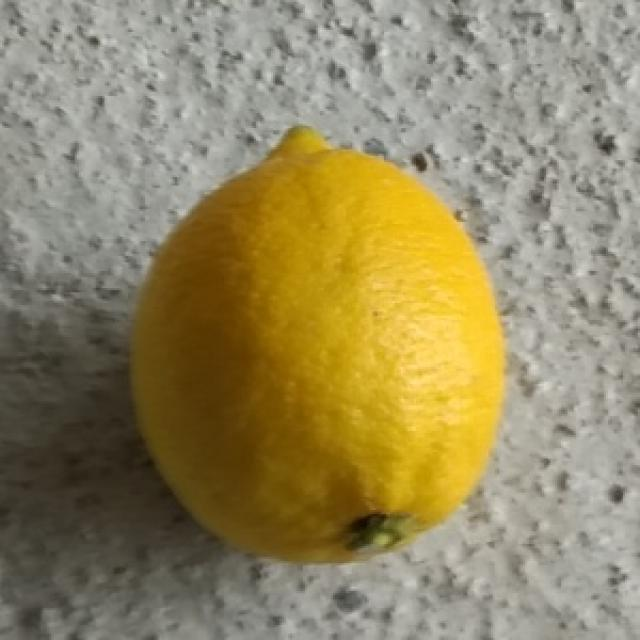Lemon: (126, 123, 507, 569)
